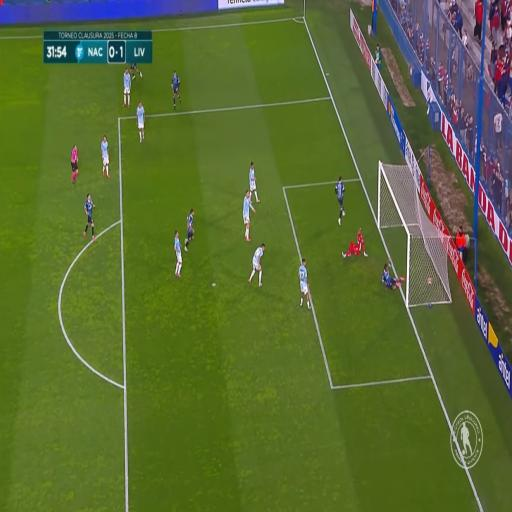Ball: (426, 276, 432, 288)
Goalkeeper: (345, 226, 365, 258)
Player: (249, 244, 266, 287), (248, 159, 259, 208), (84, 191, 94, 244), (242, 189, 252, 242), (336, 177, 346, 227), (100, 135, 110, 183), (301, 257, 310, 310), (382, 264, 399, 292), (174, 230, 183, 277), (186, 209, 195, 249), (170, 72, 180, 108), (140, 97, 148, 141), (122, 70, 130, 111)
Referee: (70, 141, 78, 186)
